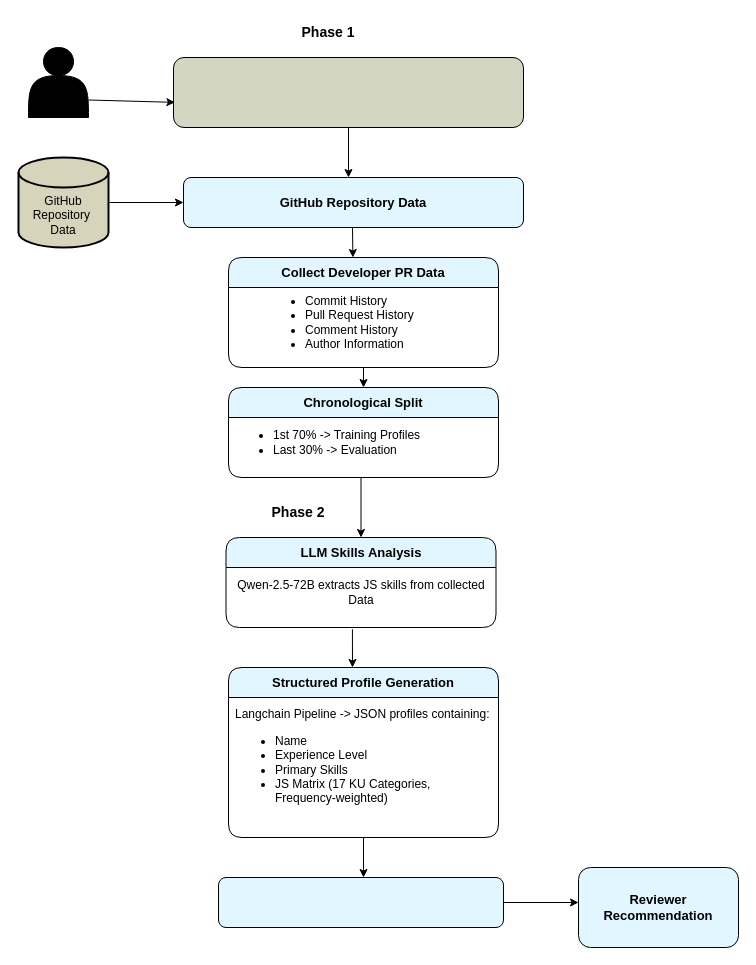
This 756x965 diagram has some shape labels left out. Each missing label, with the centre of its shape:
Developer Expertise Profiling ( Commits/ PRs/ Discussions/ Comments ): the point at 348,92
KU-based Developer Expertise Profiles: the point at 361,902
